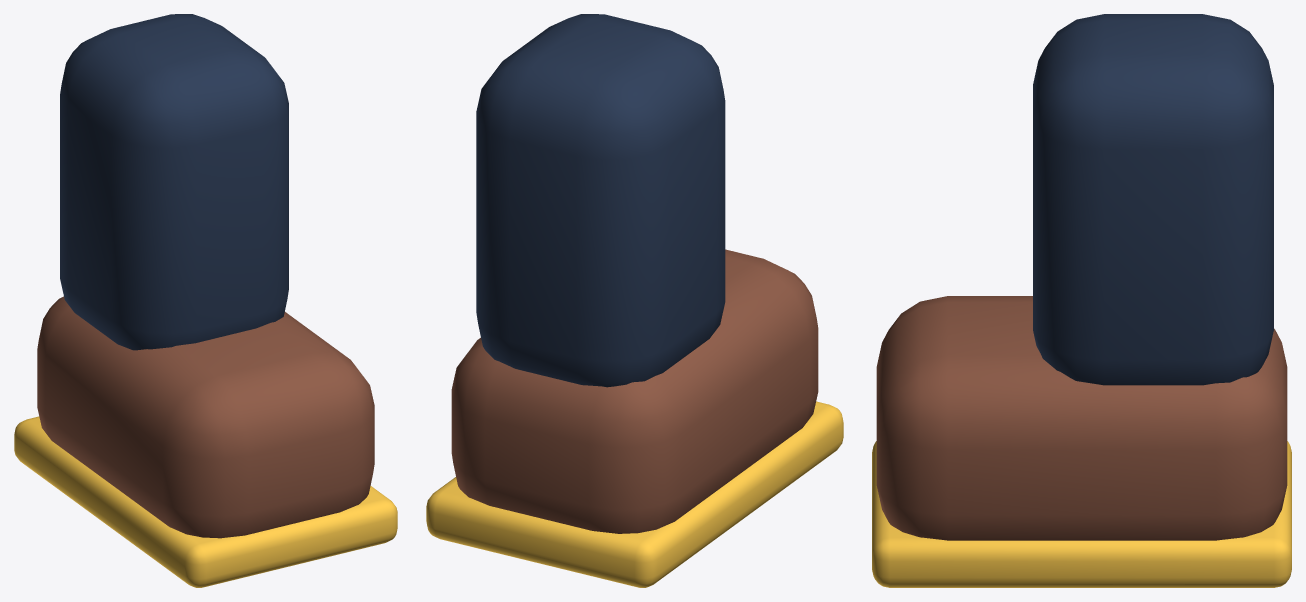
Rendered from fox_leg_l.gltf.
3 renders of one model, left to right at view 1: azimuth 30°, elevation 25°; view 2: azimuth 150°, elevation 25°; view 3: azimuth 270°, elevation 25°, orthographic. The views are drawn at different scales.
Visible parts, largest first — view 1: fox leg_l; view 2: fox leg_l; view 3: fox leg_l.
Boxes of the visible parts, x1=… form: fox leg_l: x1=14, y1=14, x2=397, y2=587; fox leg_l: x1=426, y1=14, x2=843, y2=587; fox leg_l: x1=872, y1=14, x2=1291, y2=587.
Bounding box in the file's own units: 0.31 × 0.615 × 0.47.
